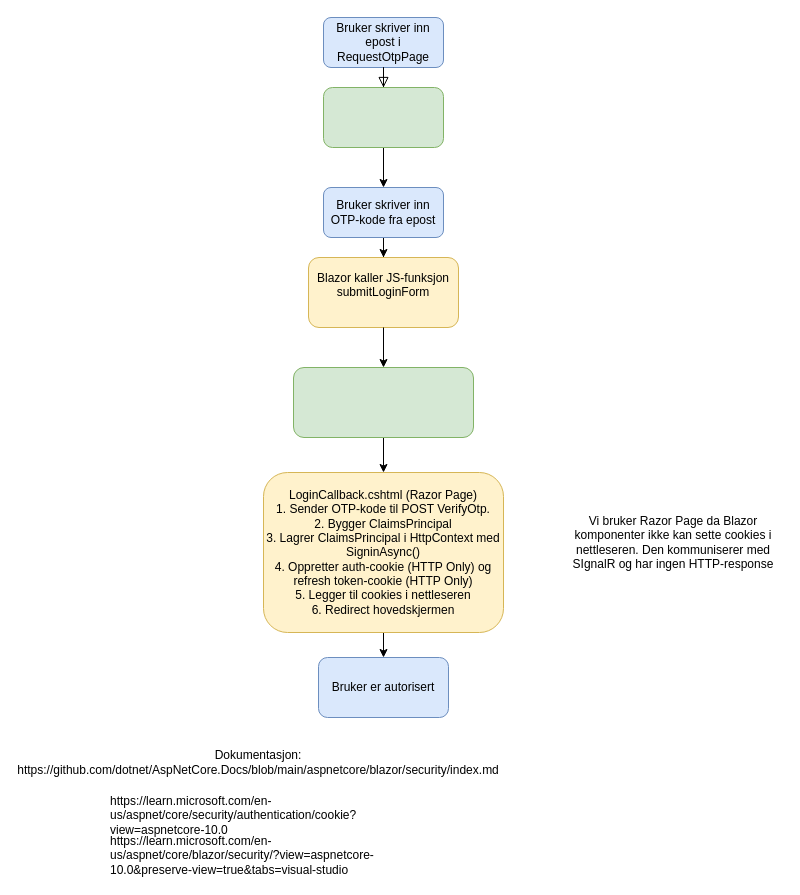
Some shapes in this 800 by 895 pixel diagram are drawn without their labels. Here are the shapes that lost their labels. From the top down, the box of each, then its label:
(322, 86, 444, 148): HTTP-forespørsel til backend POST RequestOtp
(292, 366, 474, 438): Submitter et skjult HTML-form med POST /login-callback
